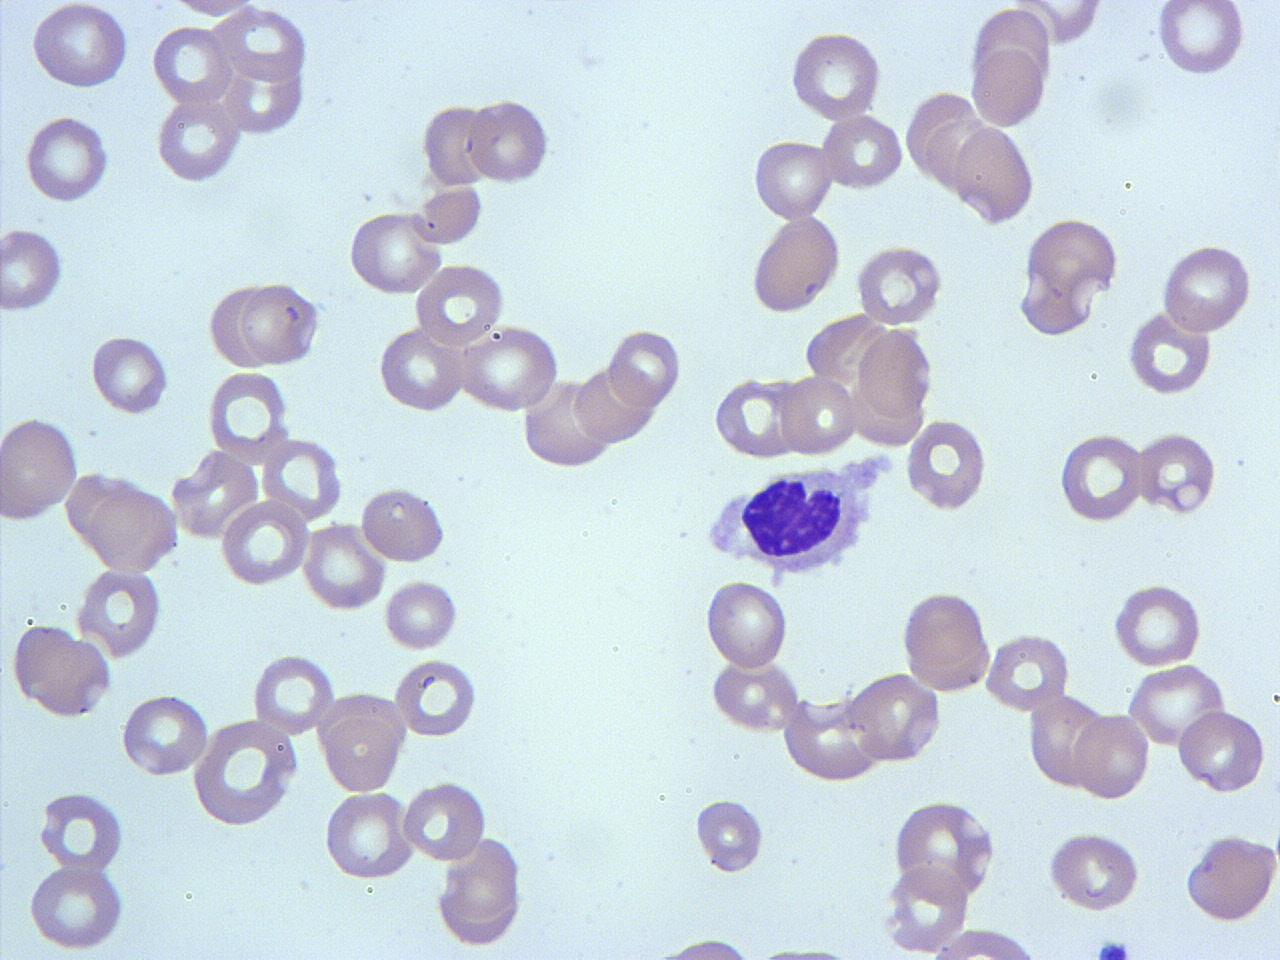Platelets: (1091, 935, 1133, 960), (860, 450, 896, 474)
RBC: (189, 716, 302, 830), (890, 798, 996, 902), (897, 587, 995, 694), (456, 322, 564, 414), (748, 213, 844, 316), (24, 860, 129, 954), (438, 833, 525, 943), (317, 690, 407, 796), (28, 2, 131, 92), (321, 789, 418, 884), (1124, 666, 1228, 754), (846, 670, 942, 765), (788, 29, 886, 122), (1182, 831, 1278, 925), (1158, 242, 1254, 336), (20, 627, 114, 722), (0, 414, 81, 524), (952, 125, 1039, 226), (205, 366, 291, 467), (345, 208, 440, 298), (412, 260, 507, 350), (1109, 580, 1205, 669), (1043, 828, 1143, 913), (1174, 706, 1268, 796), (219, 496, 309, 590), (300, 518, 388, 614), (1057, 428, 1143, 526), (904, 416, 990, 514), (88, 484, 181, 574), (22, 112, 112, 205), (703, 577, 790, 672), (1026, 216, 1122, 301), (375, 325, 466, 414), (35, 786, 127, 874), (710, 376, 804, 462), (78, 566, 164, 660), (466, 95, 552, 189), (1124, 309, 1214, 398), (854, 241, 945, 329), (152, 96, 244, 183), (1016, 244, 1102, 337), (1028, 690, 1106, 792), (119, 692, 209, 780), (882, 865, 970, 954), (983, 628, 1071, 715), (750, 135, 836, 224), (238, 278, 322, 369), (968, 34, 1048, 129), (402, 776, 488, 864), (260, 434, 344, 524), (216, 4, 310, 84), (1154, 0, 1248, 80), (1074, 708, 1152, 804), (251, 649, 336, 737), (223, 49, 307, 138), (89, 330, 172, 419), (358, 483, 448, 565), (572, 359, 656, 446), (1139, 427, 1219, 518), (392, 656, 478, 740), (857, 326, 935, 418), (820, 111, 906, 194), (152, 22, 234, 108), (708, 661, 802, 736), (606, 325, 684, 410), (780, 374, 856, 459), (422, 99, 492, 190), (382, 574, 461, 654), (692, 794, 766, 878), (206, 280, 273, 370), (1, 224, 67, 314), (410, 180, 485, 249), (1010, 0, 1106, 50), (921, 925, 1048, 960)
WBC: (704, 452, 882, 586), (1186, 834, 1280, 932)
